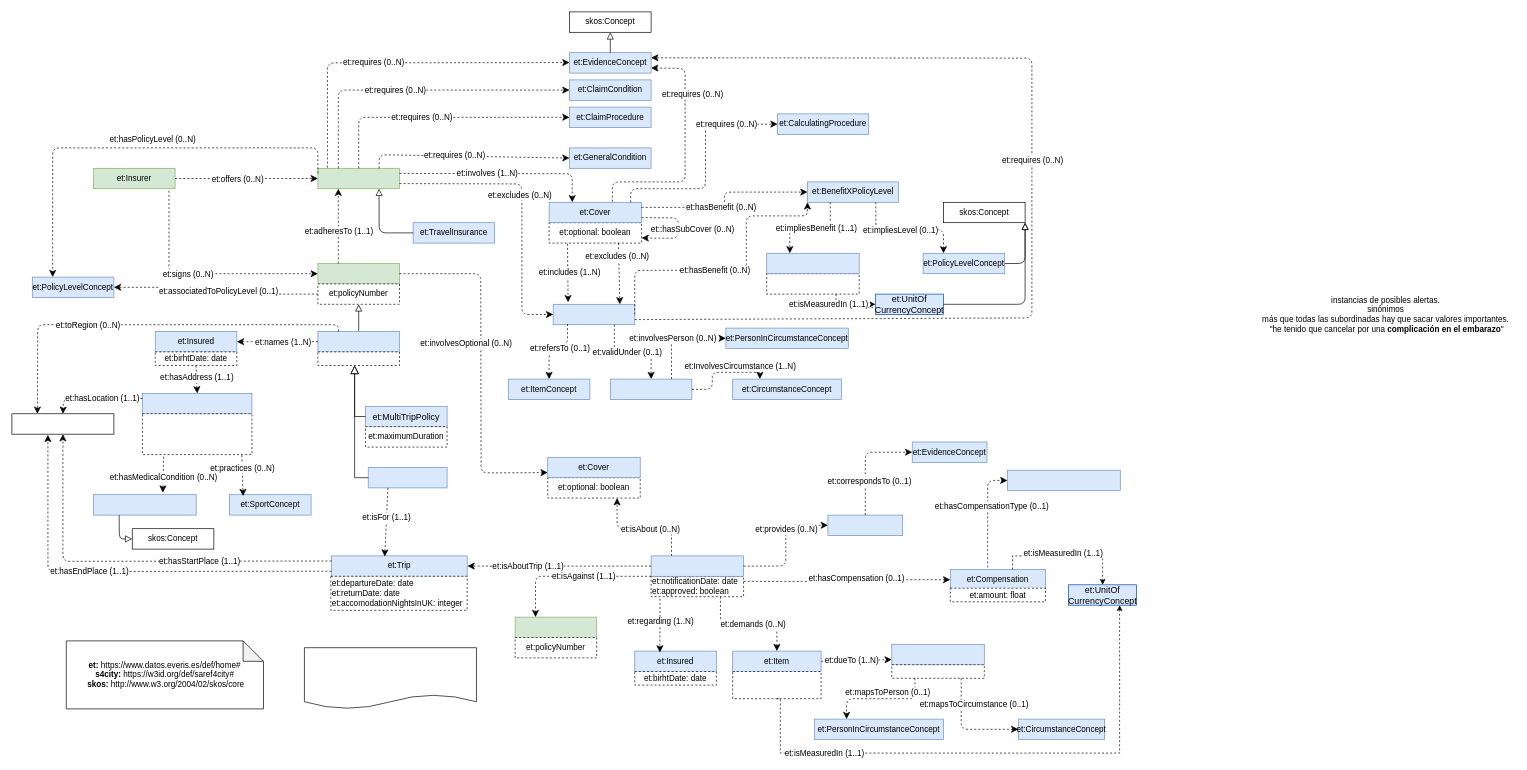
Some shapes in this 1527 by 770 pixel diagram are drawn without their labels. The centre of each missing label's shape, as x and y in pixels:
et:(Insurance)Policy: the point at 358,273
et:Addess: the point at 197,403
et:Benefit: the point at 812,263
et:buildingNumber: integer et:floorNumber :integer et:doorCode et:postalCode: the point at 197,434
et:Circumstance: the point at 651,389
et:Claim: the point at 697,565
et:CompensationTypeConcept: the point at 1063,480
et:Evidence: the point at 865,525
et:Incident: the point at 937,654
et:Insurance: the point at 358,178
et:insurancePeriod: the point at 358,358
et:InsuredItem: the point at 593,314
et:limit:integer et:excess:integer:: the point at 812,283
et:MedicalConditionConcept: the point at 144,504
et:numberOfItems: float et:costPerItem: float: the point at 776,685
et:occurrenceDate: date: the point at 937,671
et:Policy: the point at 555,627
et:SingleTripPolicy: the point at 407,477
et:TravelPolicy: the point at 358,341
owl:versionInfo: 0.0.1 dc:creator: María Poveda dc:creator: Socorro Bernardos: the point at 390,678
s4city:AdministrativeArea: the point at 62,423
